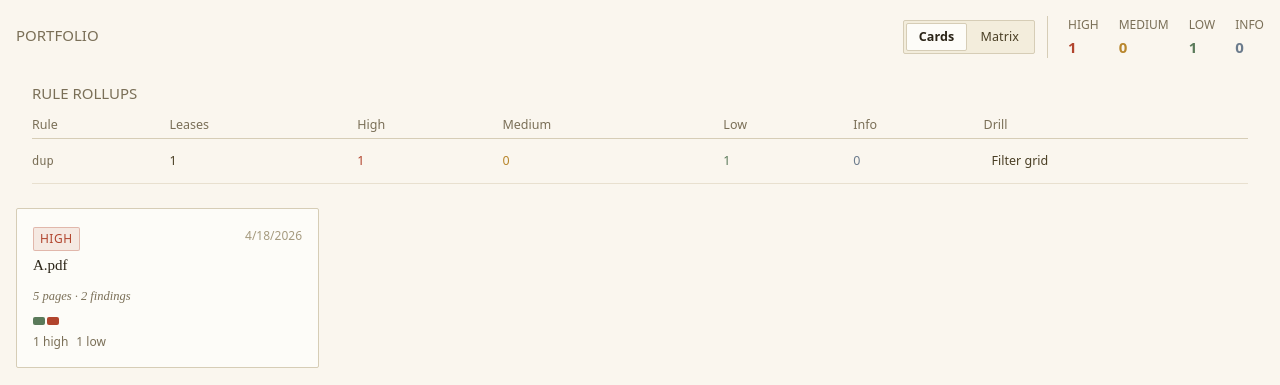
Test case: PortfolioPanel › uses the first-listed severity if multiple findings share a rule id on one lease
This screenshot has width=1280, height=385.
Step 1. Click the tab "Matrix" → (1000, 37), box x1=968 y1=23 x2=1032 y2=51
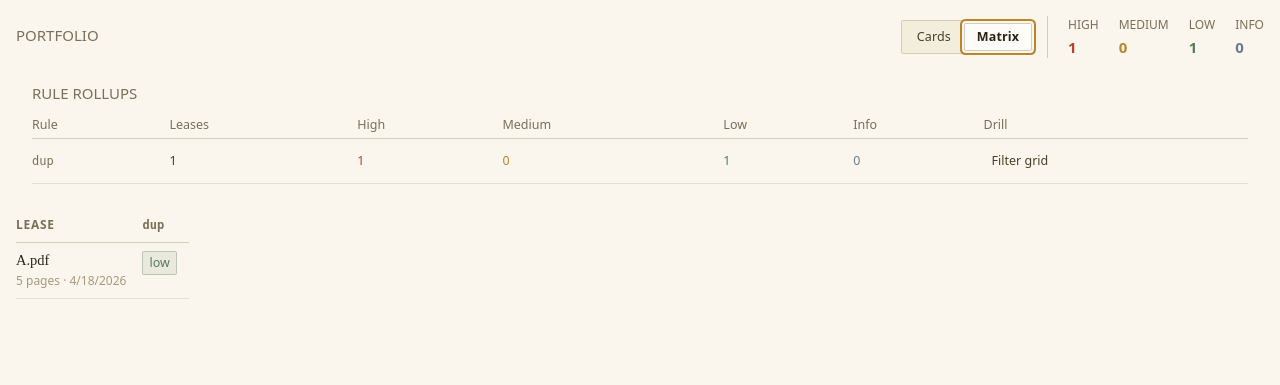
Expected: the text "low" is shown, x1=142 y1=251 x2=177 y2=275
